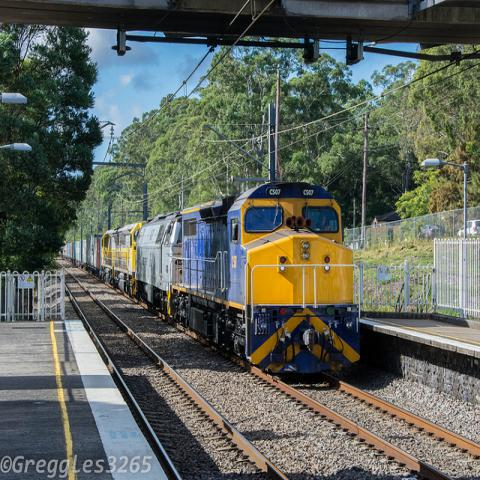car: (457, 219, 479, 238), (418, 224, 440, 240)
